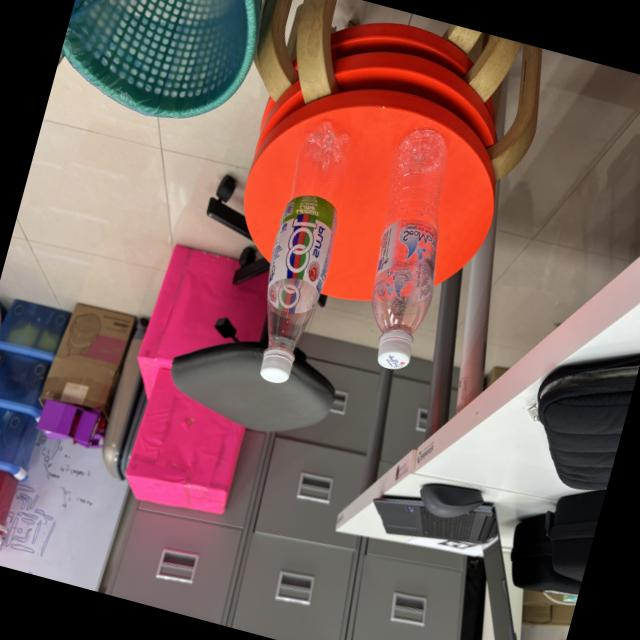dustbin: (49, 0, 281, 146)
plastic_bottle: (225, 102, 372, 404), (336, 116, 479, 382)
